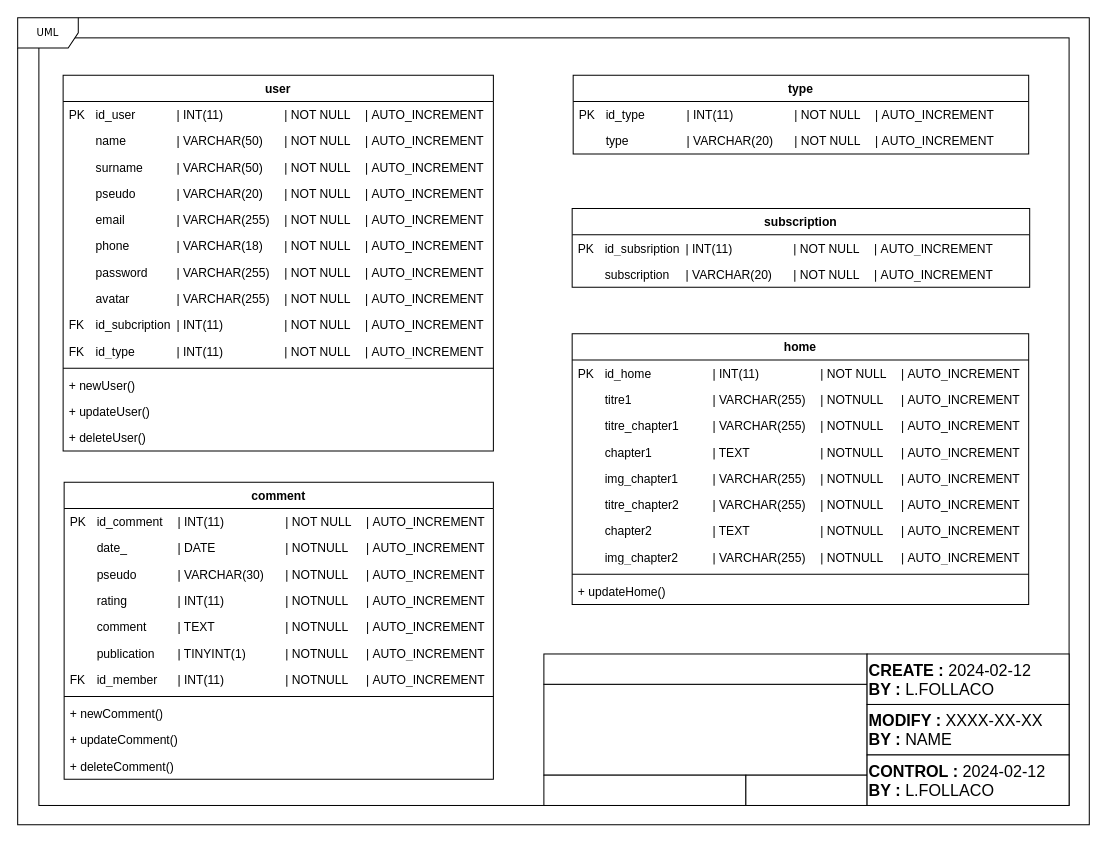
This 1107x842 diagram has some shape labels left out. The shapes that lost their labels are listed below. From the top down, each one's box as (x1, y1, x2, y2) in pixels, then its label:
(543, 653, 867, 684): DESIGNATION
(543, 683, 867, 775): Diagramme modèle physique de données Projet Club GOLDORAK
(543, 774, 746, 805): Ref. : 2404DG003
(745, 774, 867, 805): Rev. : 01
